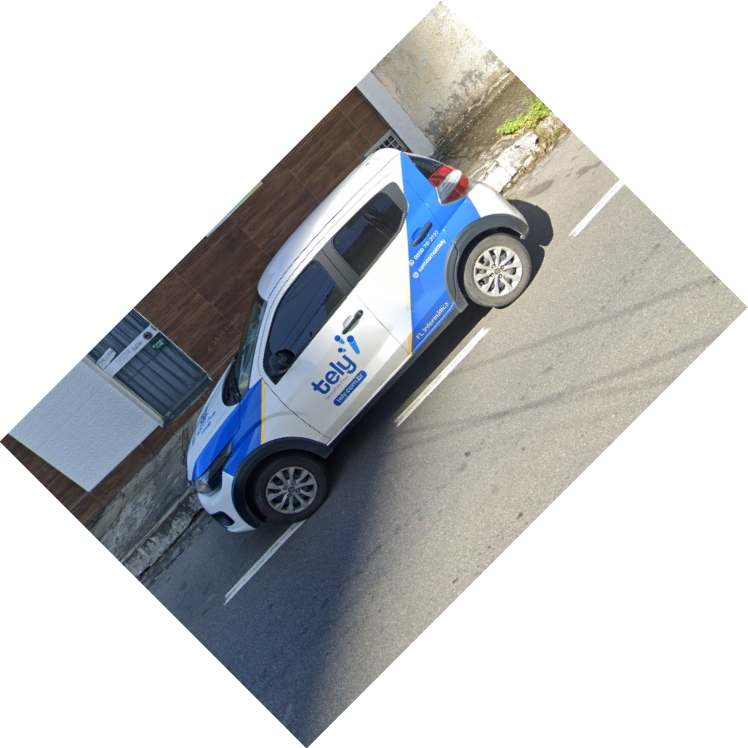car: (181, 144, 536, 534)
